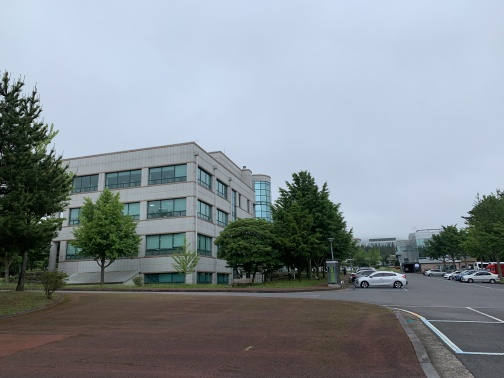Global House: (397, 226, 445, 271)
Second Library: (54, 142, 272, 291)
